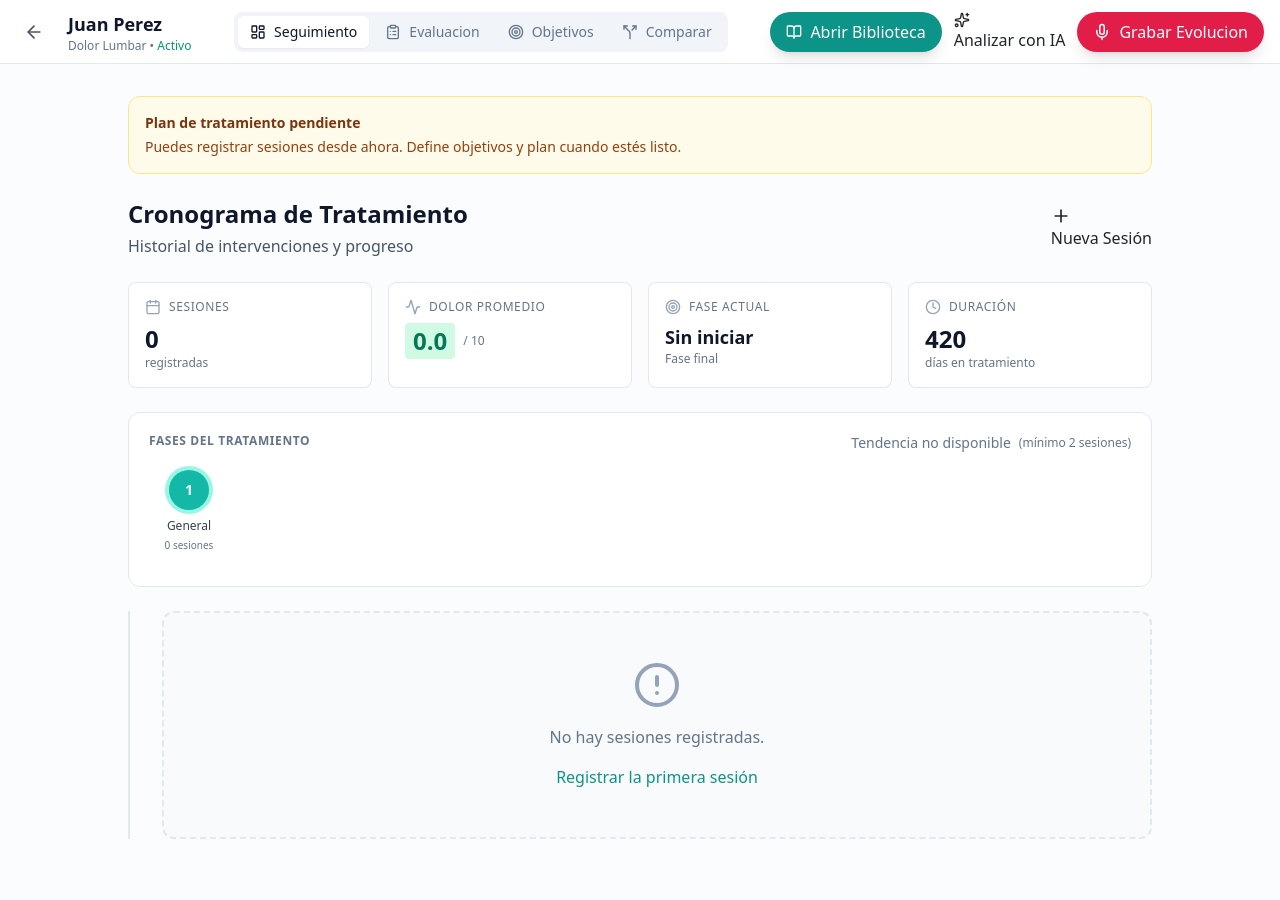
ZeroFrictionVoiceFlow Integration › stops recording and auto-saves when stop button is clicked
Click the button "Grabar Evolucion": (1171, 32) [1077, 12, 1264, 52]
Wait 5000 ms
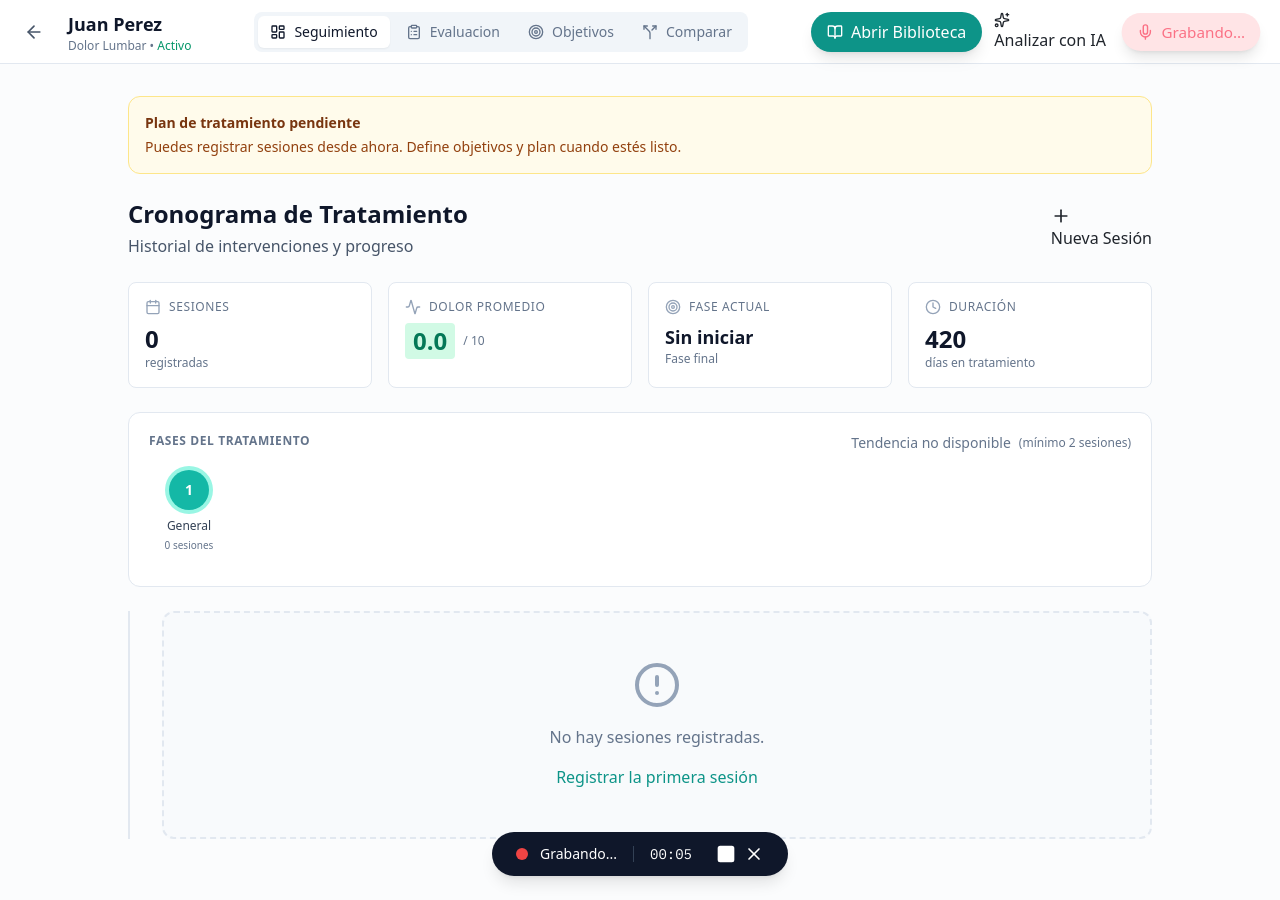
Click the button named "Detener grabación": (726, 854) [716, 844, 736, 864]
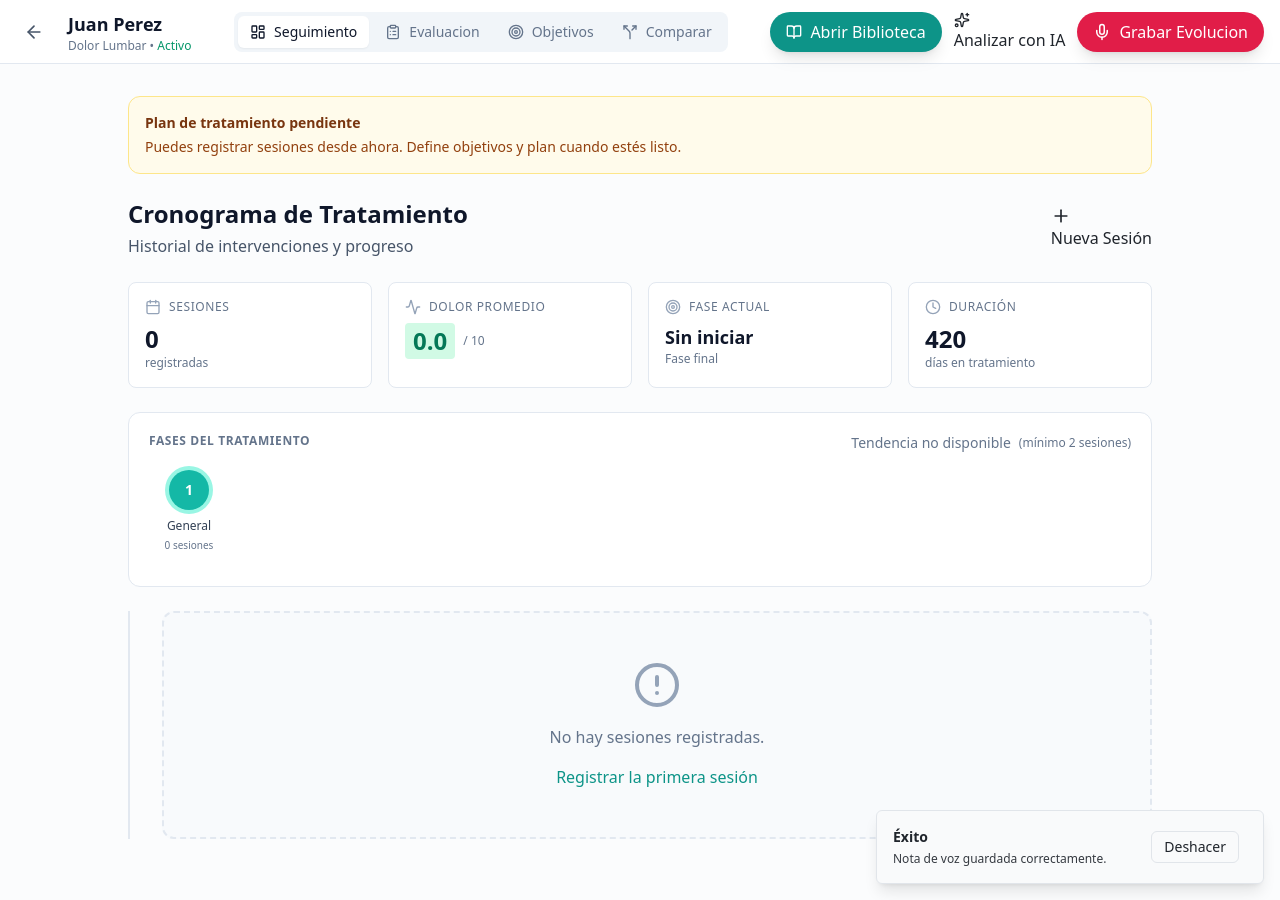
Now the text "Nota de voz guardada correctamente." is shown, box [893, 851, 1106, 867]
Now the button "Deshacer" is shown, box [1151, 831, 1239, 863]
Now the button "Grabando" is gone
